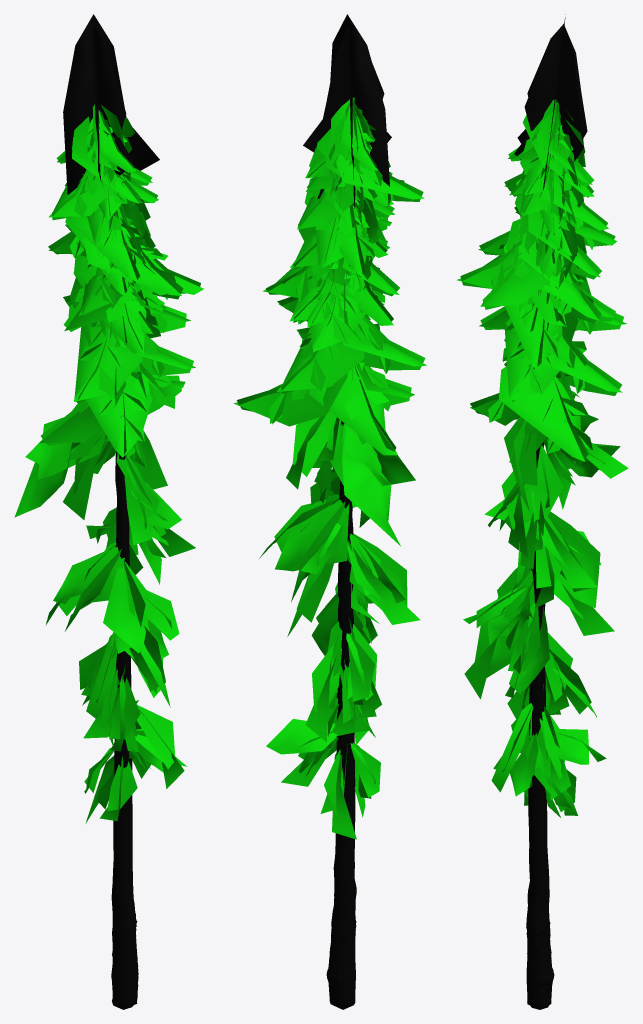
The model's file is pine_004_5.FBX.
The picture shows the model from 3 angles, left to right: view 1: azimuth 30°, elevation 25°; view 2: azimuth 150°, elevation 25°; view 3: azimuth 270°, elevation 25°; orthographic projection. The views are drawn at different scales.
Parts seen in each view (by area): view 1: pine_004_05_LOD0; view 2: pine_004_05_LOD0; view 3: pine_004_05_LOD0.
Part boxes in pixels (bbox=[...]): pine_004_05_LOD0: bbox=[14, 14, 203, 1009]; pine_004_05_LOD0: bbox=[233, 14, 426, 1009]; pine_004_05_LOD0: bbox=[456, 14, 628, 1009].
Size of what is drawn, in the model's own units: 299 by 1685 by 267.
